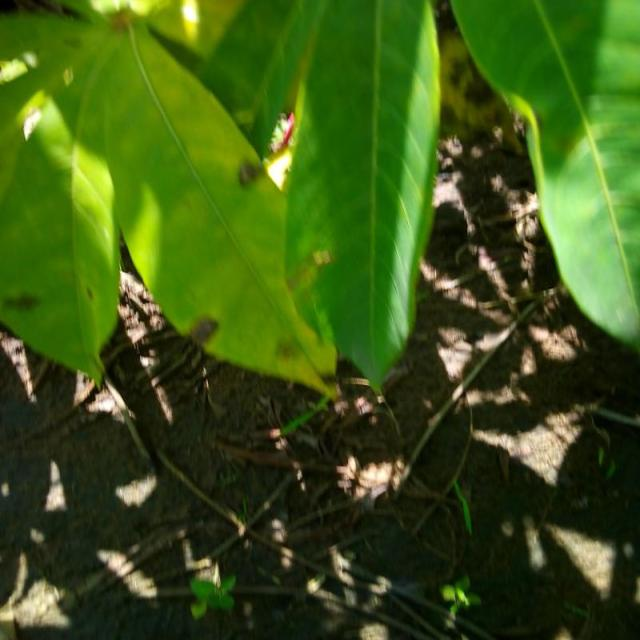cassava leaf: (1, 0, 442, 401), (450, 0, 640, 352), (282, 0, 443, 396)
